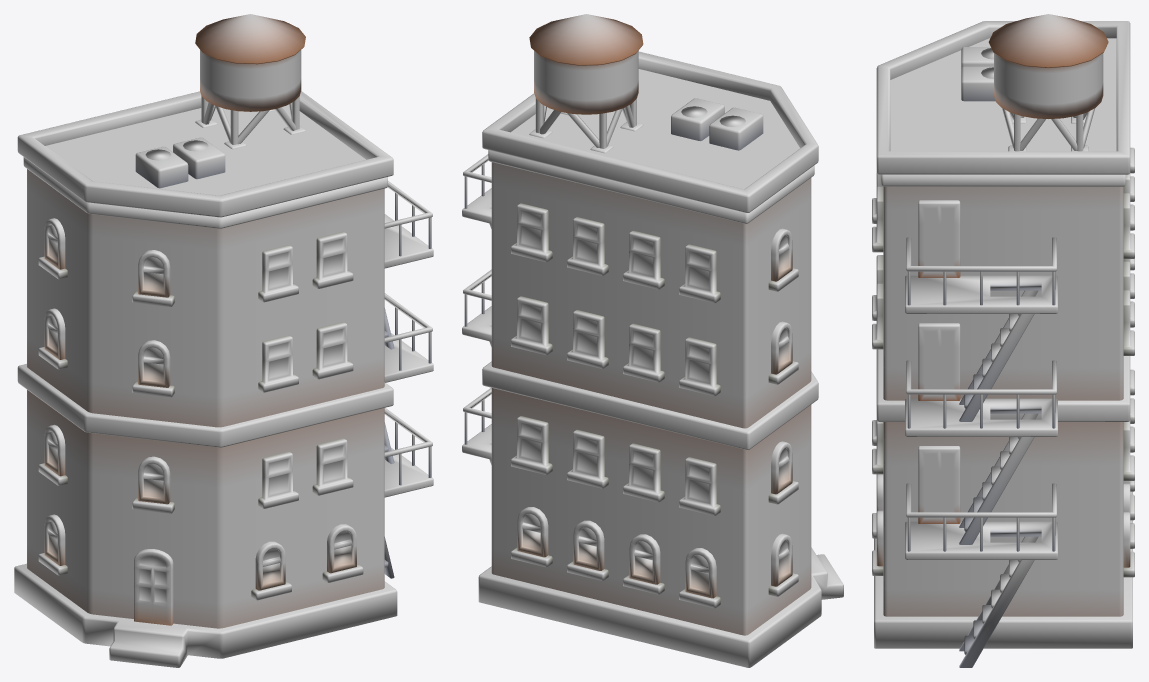
Rendered from Building_090.fbx.
3 views of the same model, side by side, from view 1: azimuth 30°, elevation 25°; view 2: azimuth 150°, elevation 25°; view 3: azimuth 270°, elevation 25° (orthographic). The views are drawn at different scales.
Parts seen in each view (by area): view 1: Building_090; view 2: Building_090; view 3: Building_090.
Boxes of the visible parts, x1,y1,x2,y2 form: Building_090: (14, 14, 433, 667); Building_090: (462, 14, 843, 667); Building_090: (872, 14, 1134, 667).
Bounding box in the file's own units: 1145 × 766 × 1931.
